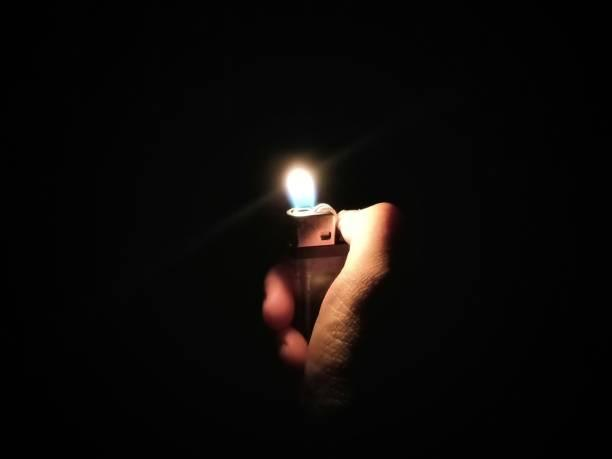Fire: (282, 163, 321, 207)
